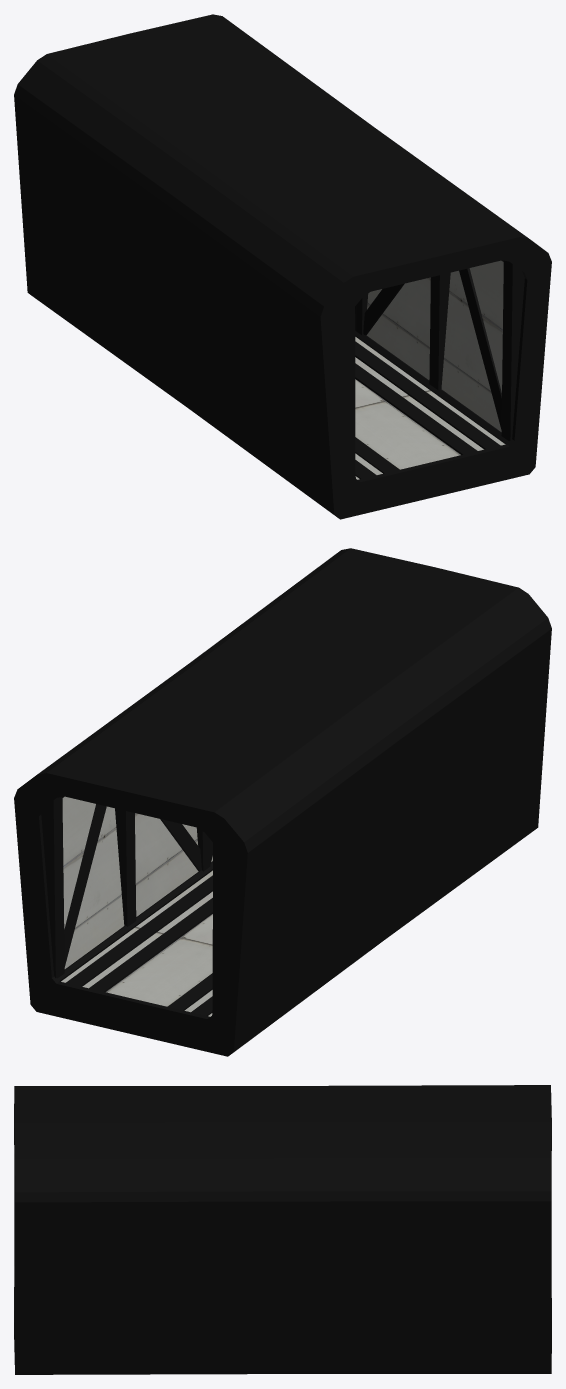
The model's file is Tunnel_vent_02.FBX.
The picture shows the model from 3 angles, top to bottom: view 1: azimuth 30°, elevation 25°; view 2: azimuth 150°, elevation 25°; view 3: azimuth 270°, elevation 25°; orthographic projection. The views are drawn at different scales.
Parts seen in each view (by area): view 1: Tunnel02; view 2: Tunnel02; view 3: Tunnel02.
Part boxes in pixels (x1,y1,x2,y2): Tunnel02: (14, 14, 551, 519); Tunnel02: (14, 548, 551, 1056); Tunnel02: (14, 1085, 551, 1374).
Bounding box in the file's own units: 286 × 282 × 646.
